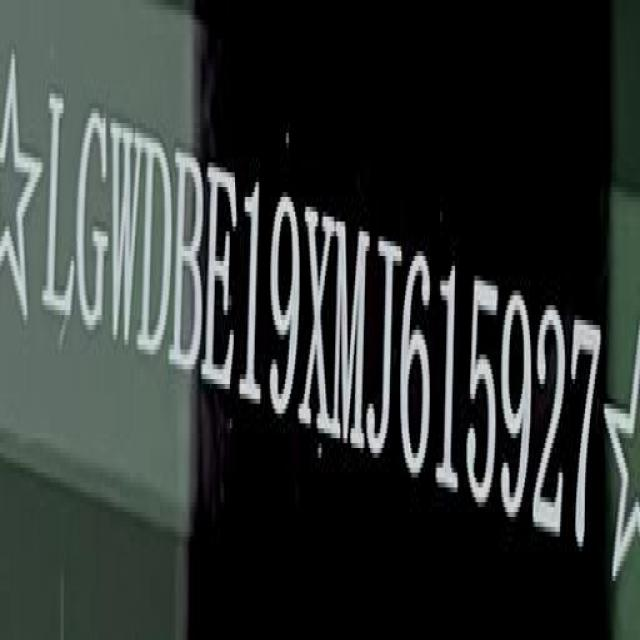1: (436, 258, 457, 490), (240, 171, 260, 409)
2: (533, 299, 568, 544)
5: (467, 267, 498, 503)
6: (401, 240, 434, 476)
7: (569, 310, 599, 552)
9: (500, 286, 532, 526), (268, 190, 298, 424)
B: (175, 147, 206, 378)
D: (140, 128, 170, 362)
E: (203, 160, 239, 407)
G: (74, 95, 108, 348)
J: (368, 234, 401, 468)
L: (42, 86, 73, 329)
M: (333, 214, 369, 448)
W: (109, 108, 143, 370)
X: (302, 198, 336, 441)
